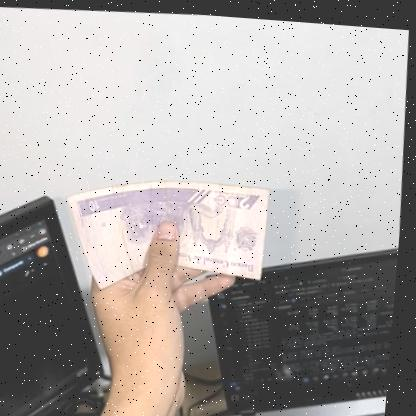ten-back-vef: (64, 168, 278, 296)
